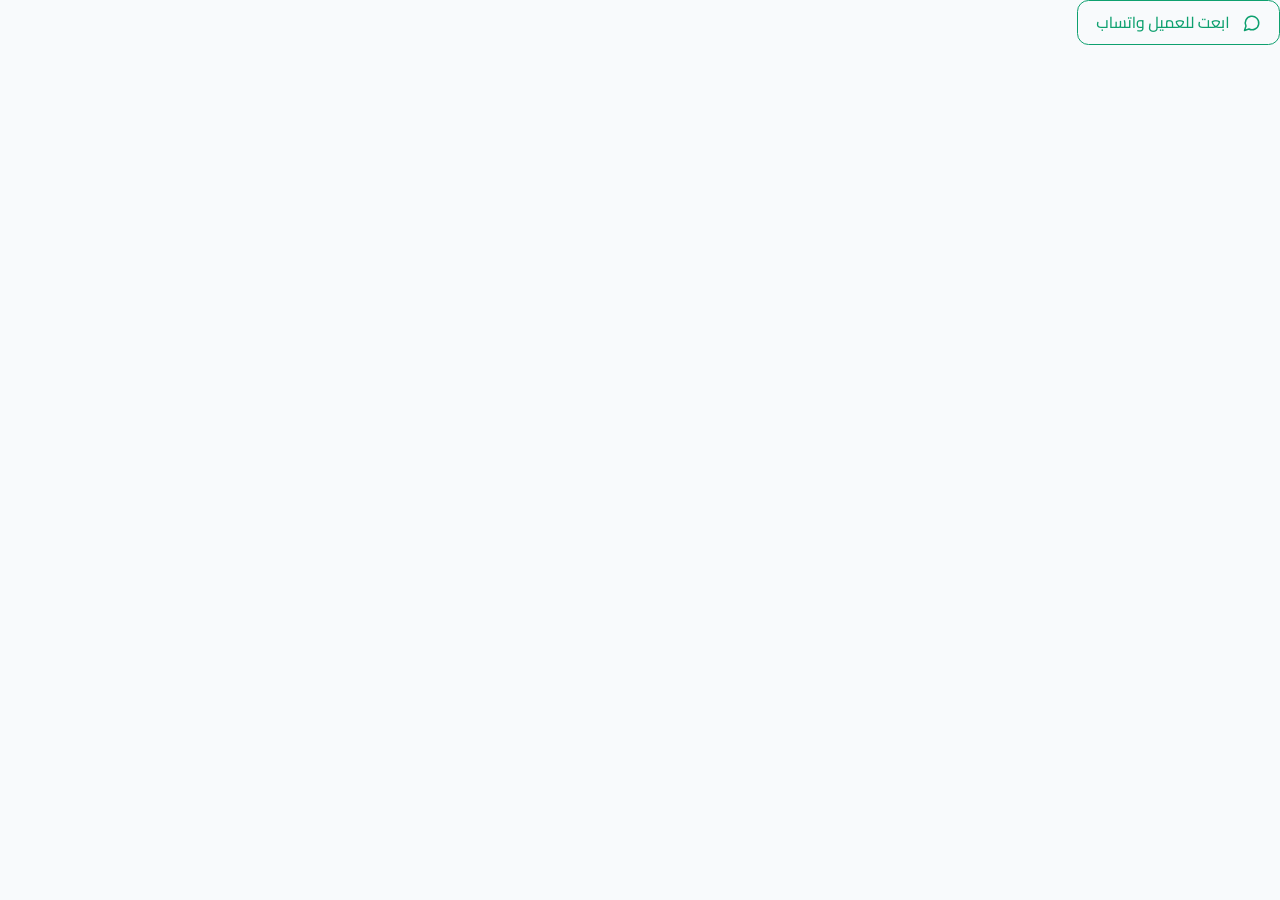
Test: زرار الواتساب — رقم مش موجود ← تنبيه ← صفحة الحساب (owner 2026-11-19) › a walk-in sale (no account): straight to typing the number
Click the button "ابعت للعميل واتساب" at (1179, 22), box [1077,0,1279,45]
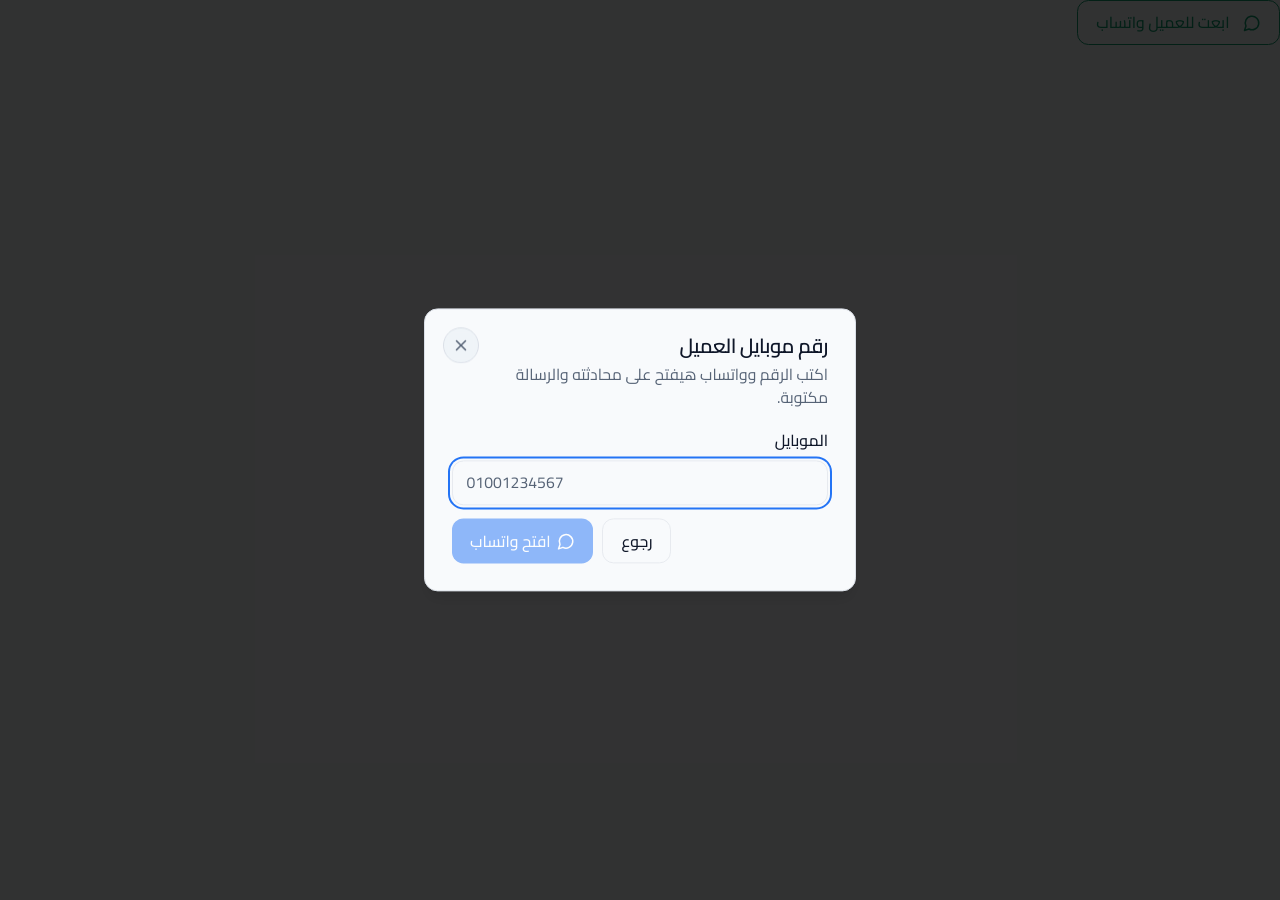
expect the field labelled "الموبايل" is shown: met, box [452,460,828,505]
